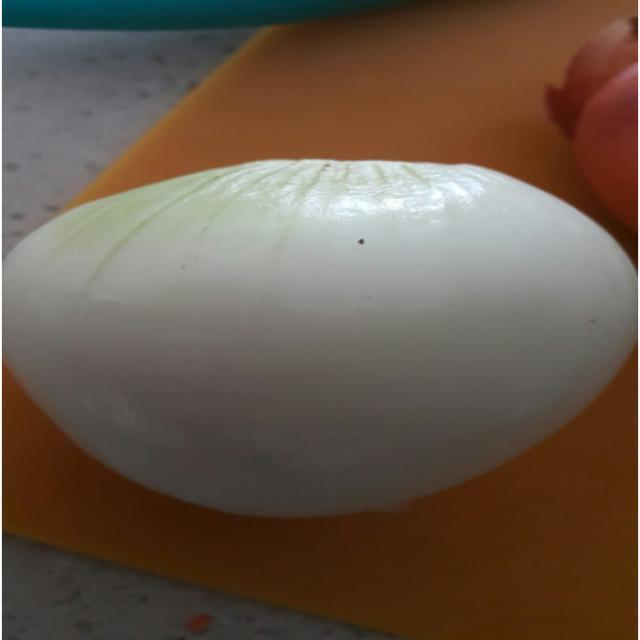Onion: (0, 159, 636, 519)
